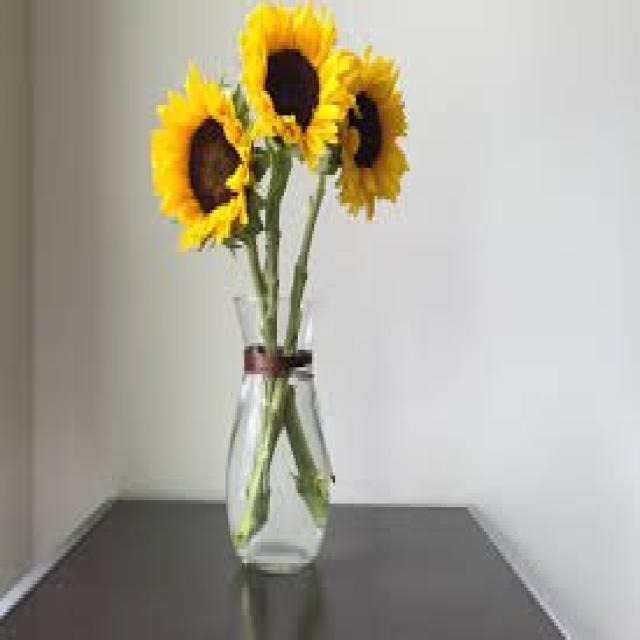sunflower: (149, 59, 251, 252), (239, 0, 356, 168), (335, 44, 408, 220)
